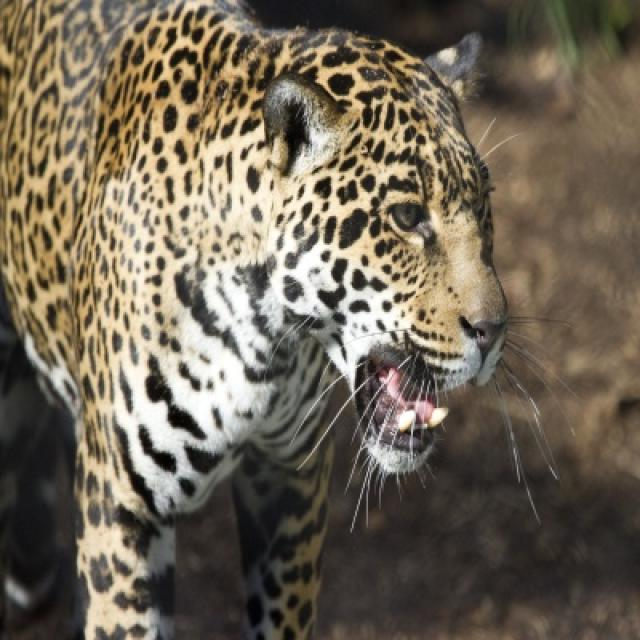Jaguar: (0, 0, 510, 638)
